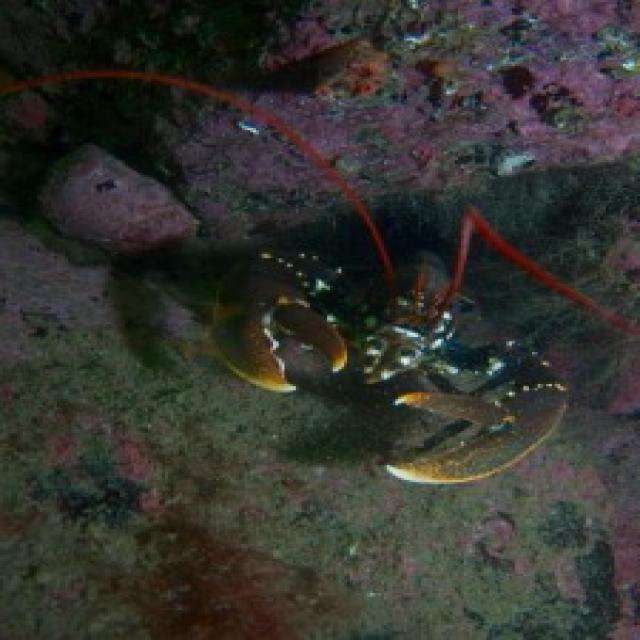lobsters: (37, 62, 640, 567)
